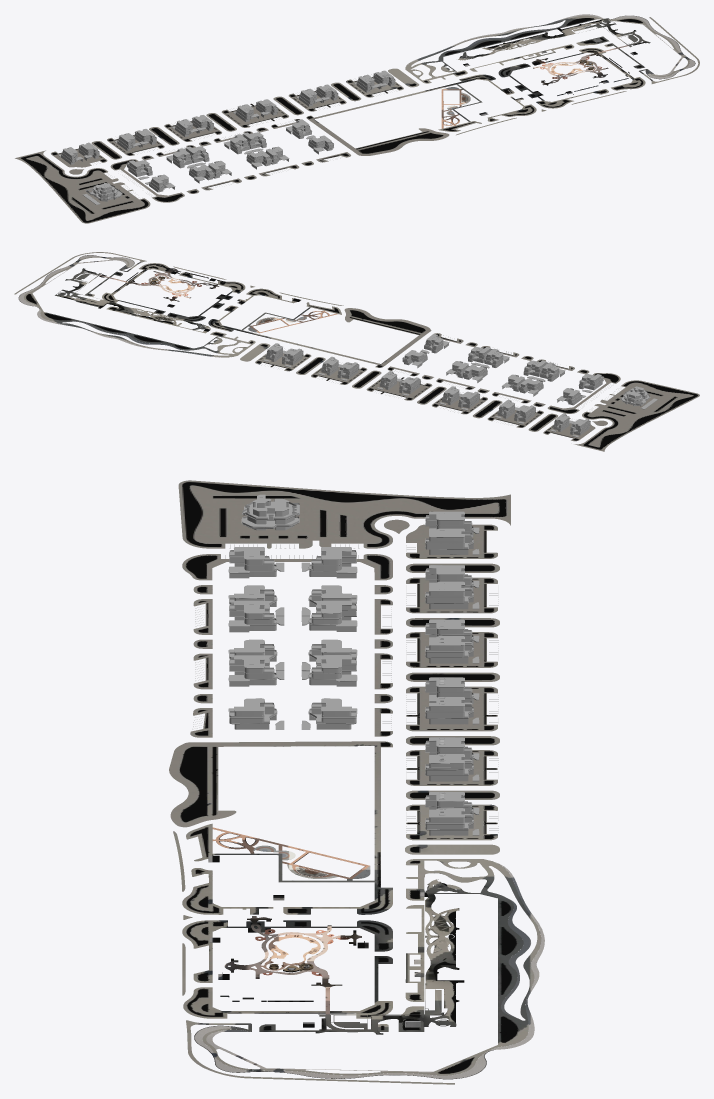
Rendered from MAG_11_Build_main.glb.
3 renders of one model, top to bottom at view 1: azimuth 30°, elevation 25°; view 2: azimuth 150°, elevation 25°; view 3: azimuth 270°, elevation 25°, orthographic. The views are drawn at different scales.
Parts seen in each view (by area): view 1: Main _ground; view 2: Main _ground; view 3: Main _ground.
Part boxes in pixels (x1,y1,x2,y2): Main _ground: (15, 14, 699, 223); Main _ground: (14, 252, 699, 451); Main _ground: (169, 480, 544, 1084).
Size of the model in its own units: 777 by 13.68 by 204.
4 materials, 2 textured.
